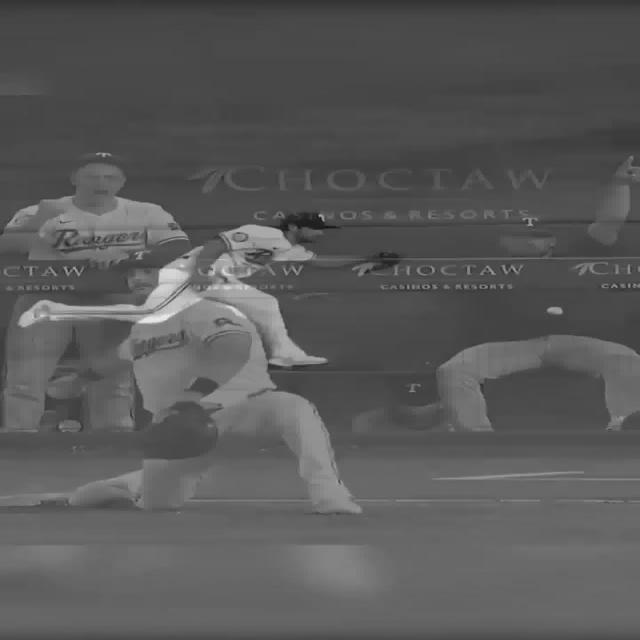baseball: (545, 306, 563, 315)
baseball_glove: (140, 401, 222, 460)
shoe: (311, 497, 363, 515), (267, 355, 328, 366), (56, 419, 82, 432)
